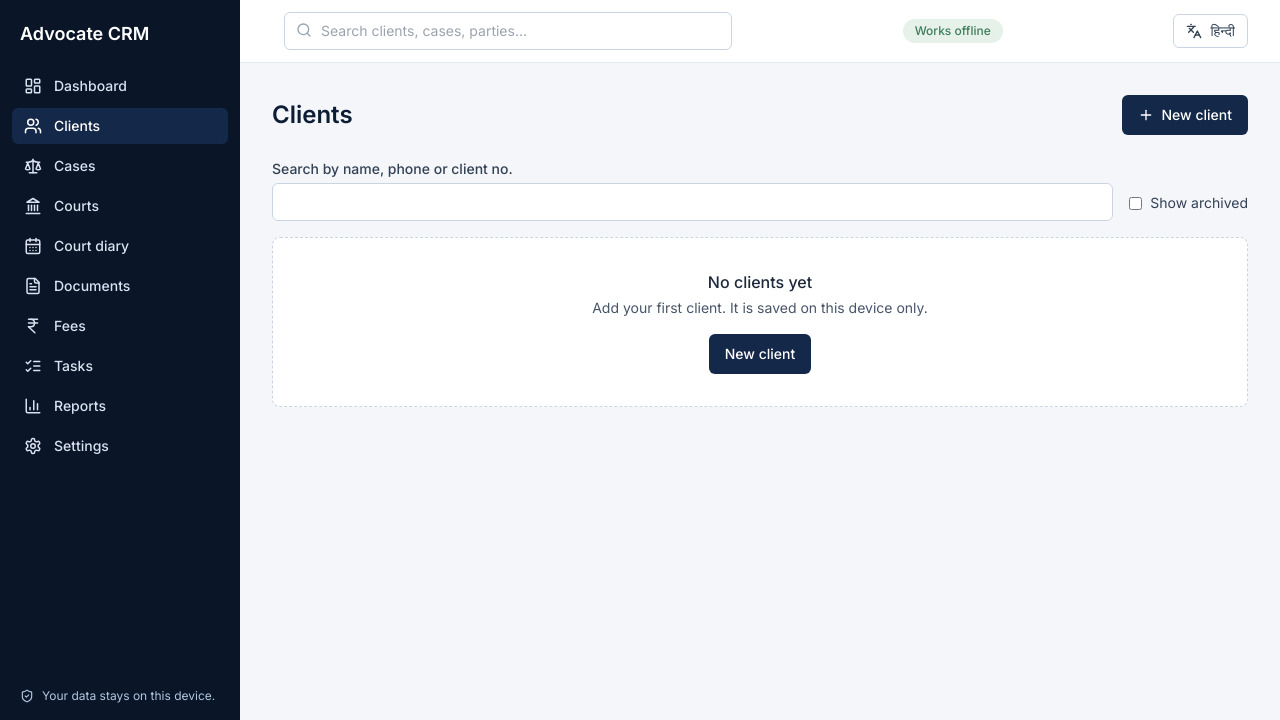
Test: client management › finds clients through the global search and opens them
The image size is (1280, 720).
Click the 1st button "New client" at x=1185, y=115, box [1122,95,1248,135]
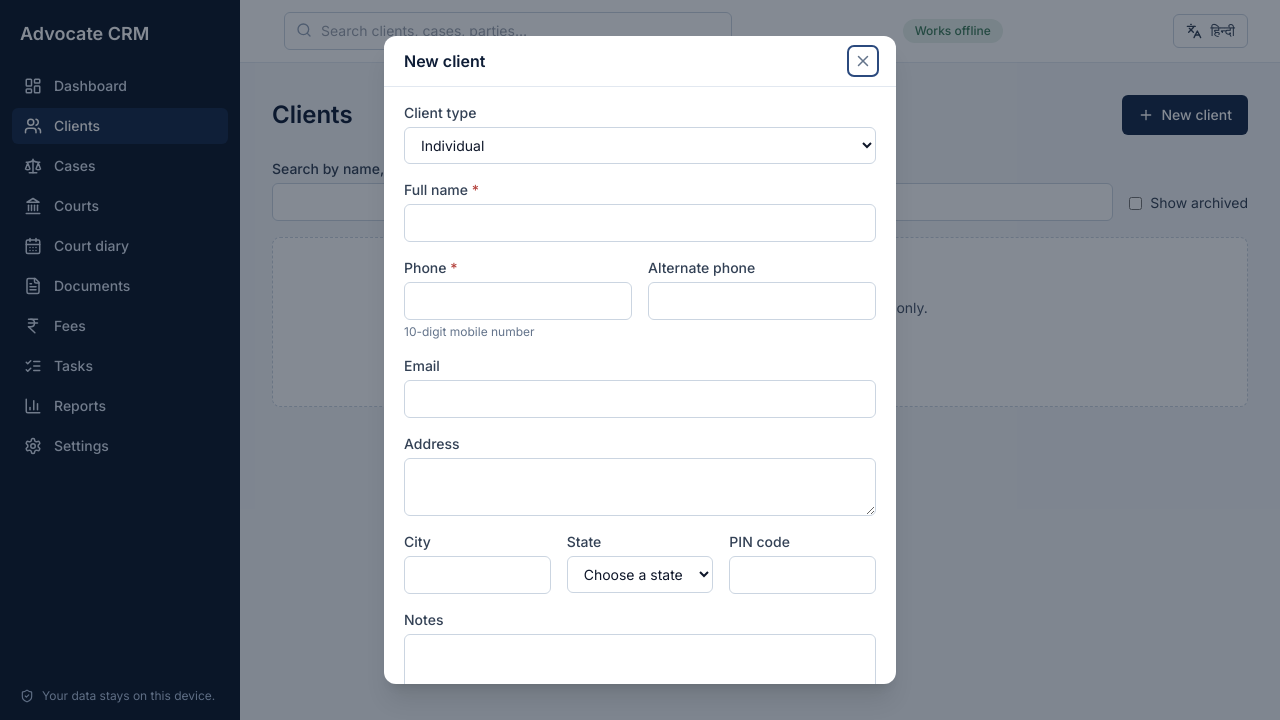
Type "Ravi Jain" into the field labelled "Full name *" at x=640, y=223, box [404,204,876,242]
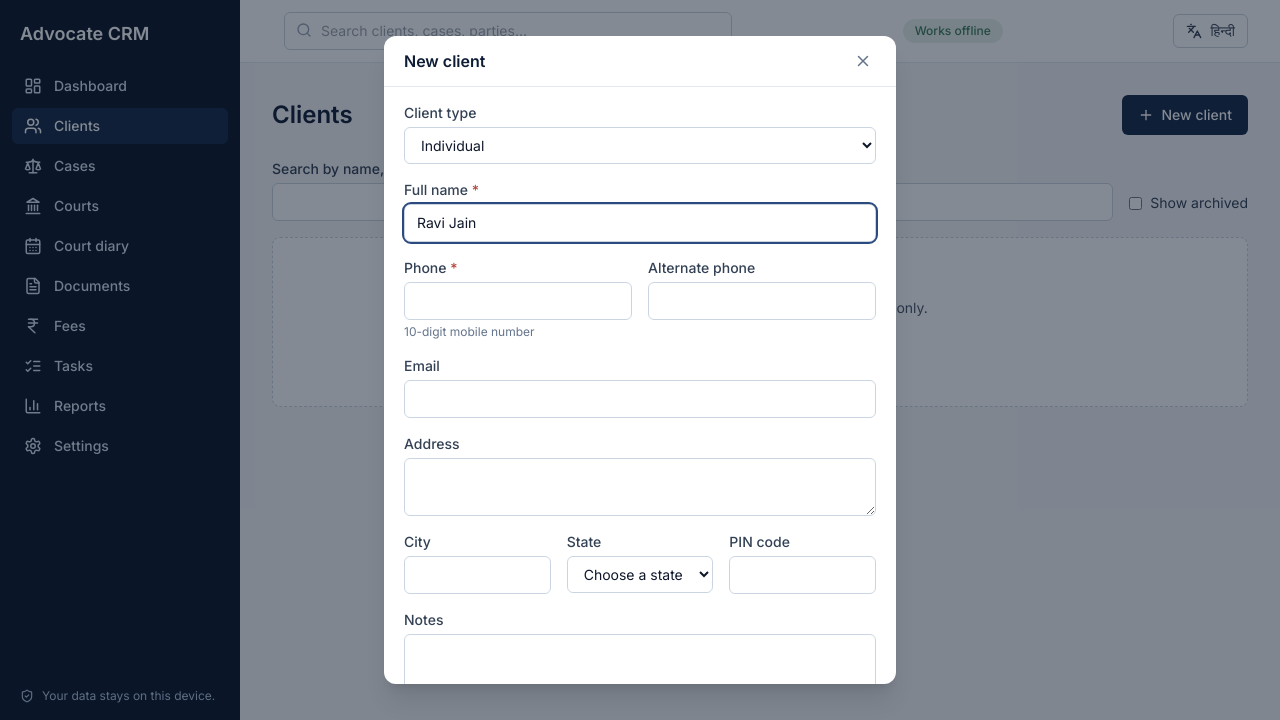
Type "9123456780" into the field labelled "Phone" at x=518, y=301, box [404,282,632,320]
(page scrolled)
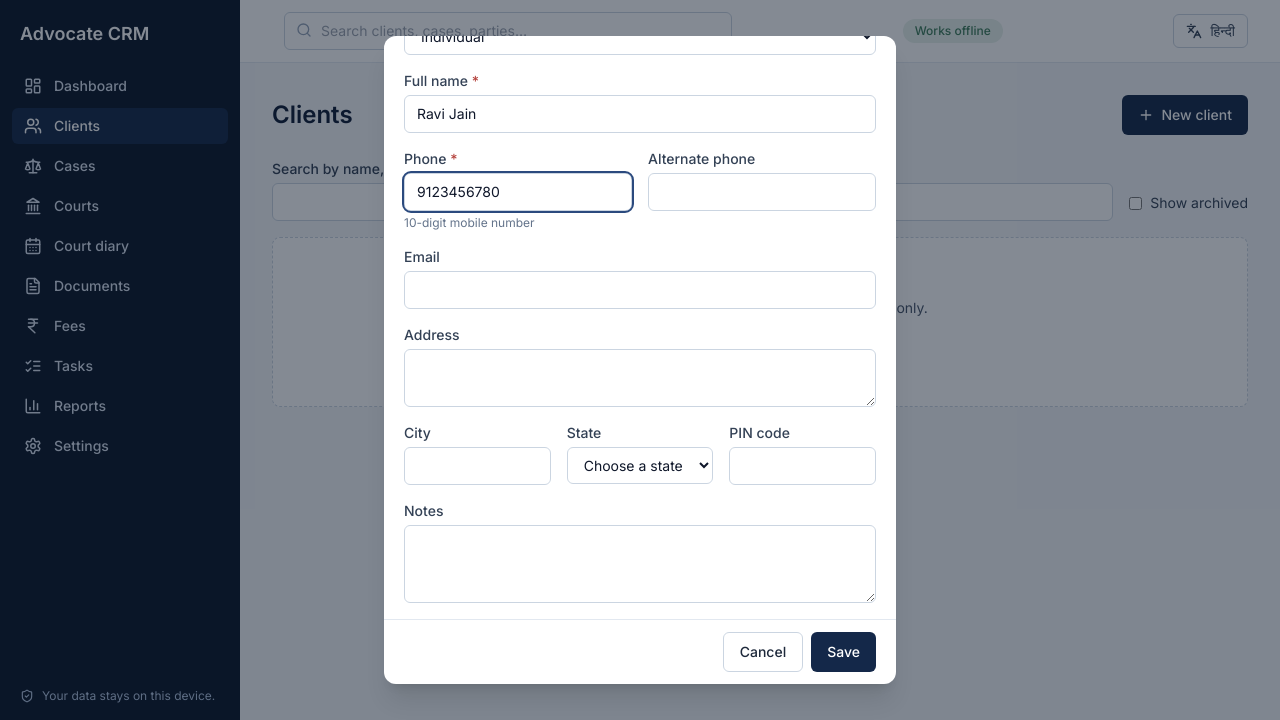
Click the button "Save" at x=844, y=652, box [811,632,876,672]
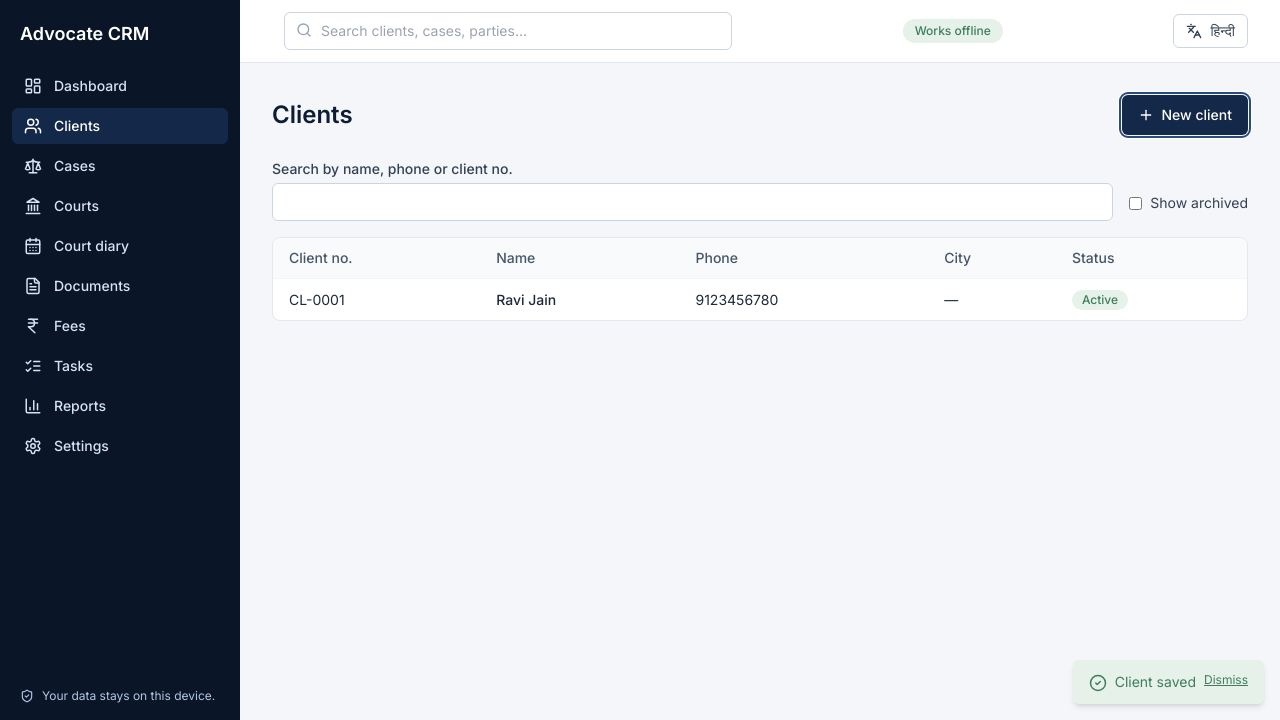
Expected: the text "Client saved" is shown, [1115,672,1196,692]
Type "ravi" into the search field named "Global search" at x=508, y=31, box [284,12,732,50]
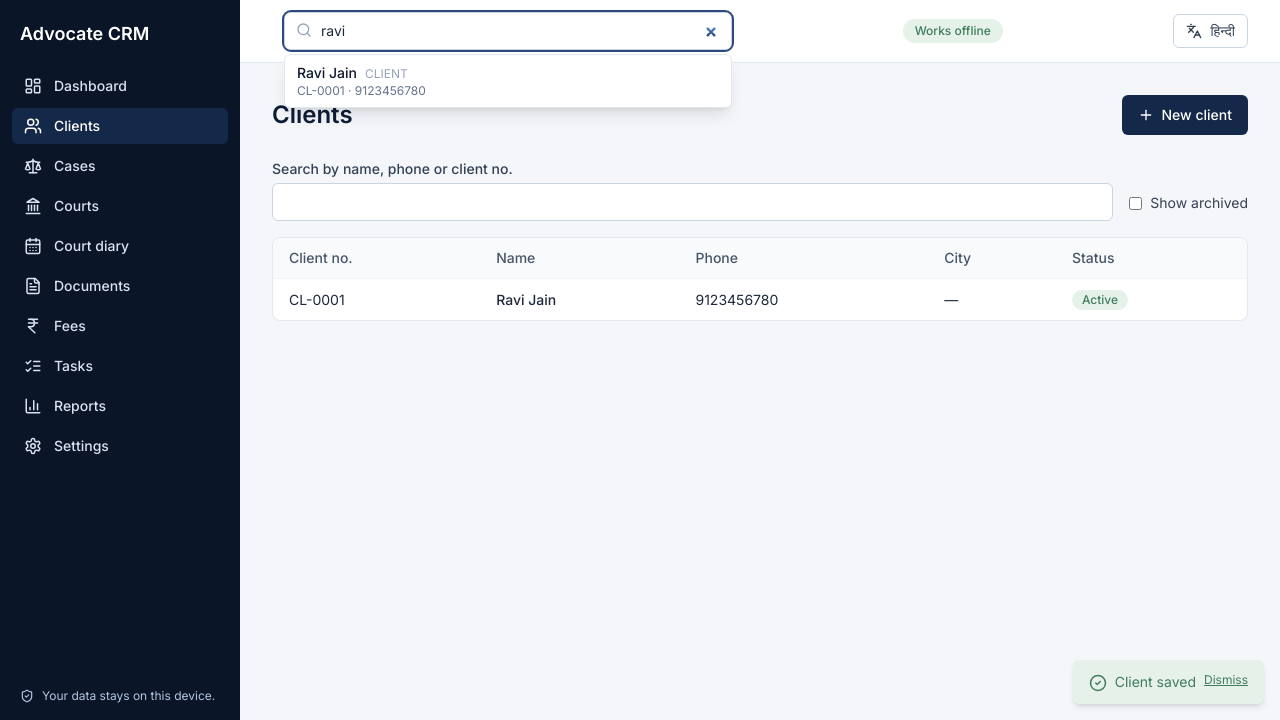
Click the option "Ravi Jain" at x=361, y=81, box [297,64,426,98]
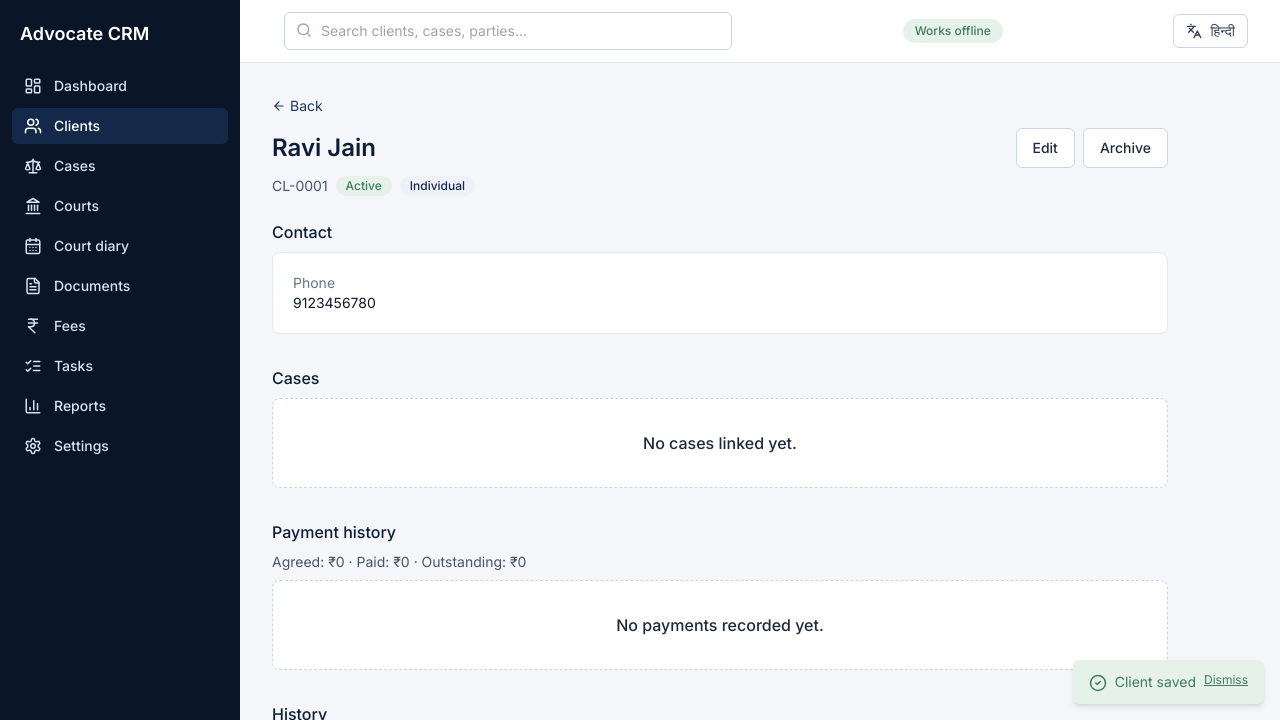
Expected: the heading "Ravi Jain" is shown, [272,132,376,164]
